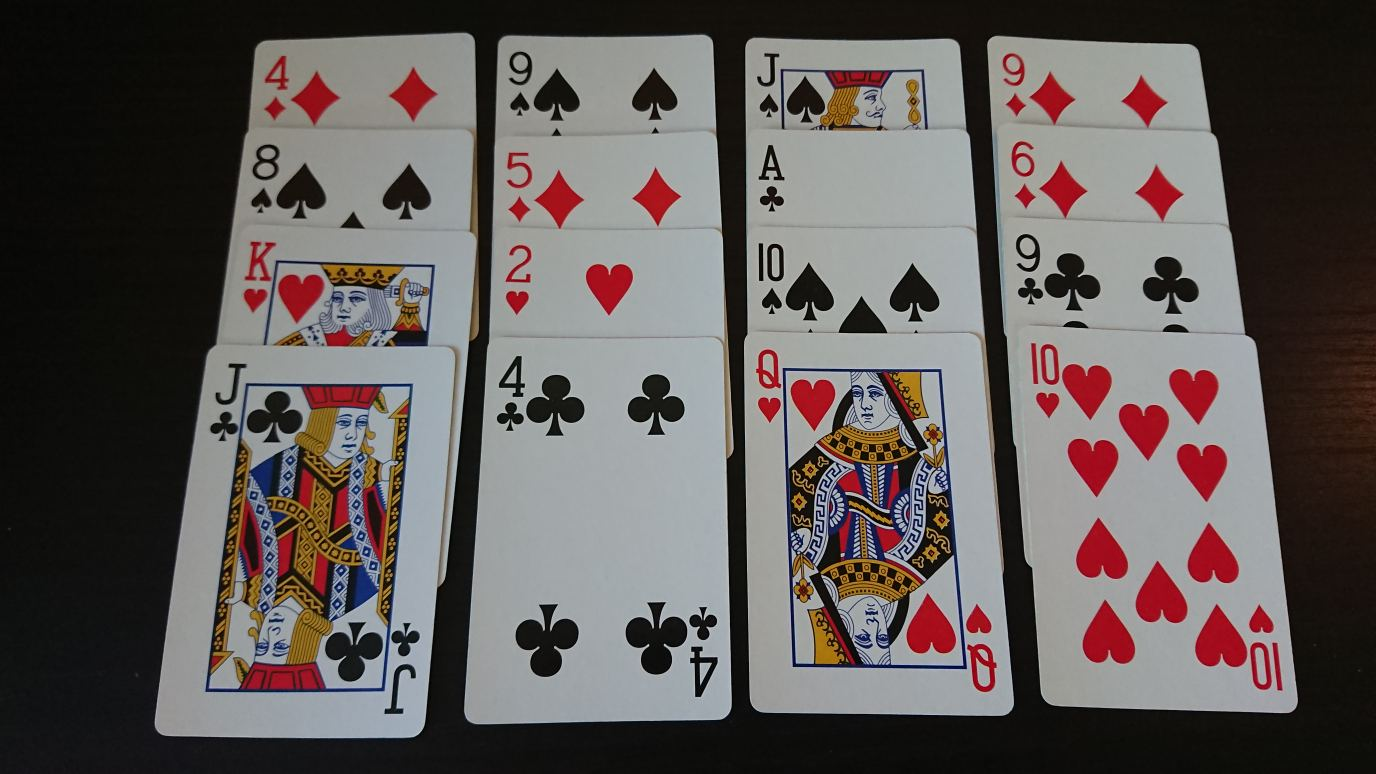10H: (1021, 335, 1066, 423)
10S: (749, 235, 793, 320)
2H: (501, 241, 535, 320)
4C: (489, 348, 529, 436)
4D: (258, 49, 294, 125)
5D: (501, 147, 535, 226)
6D: (1006, 135, 1040, 214)
8S: (246, 137, 282, 217)
9C: (1008, 227, 1047, 315)
9D: (995, 45, 1033, 120)
9S: (504, 48, 536, 121)
AC: (753, 138, 789, 218)
JC: (207, 357, 252, 447)
JS: (752, 47, 786, 123)
KH: (236, 235, 277, 319)
QH: (749, 342, 789, 429)
